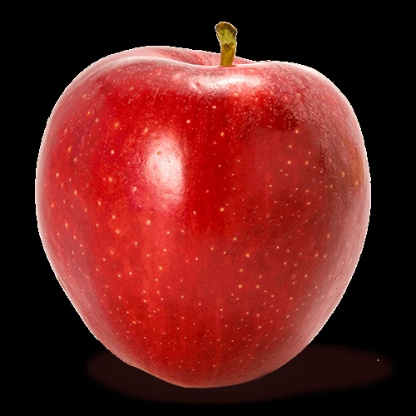tao: (33, 38, 370, 390)
